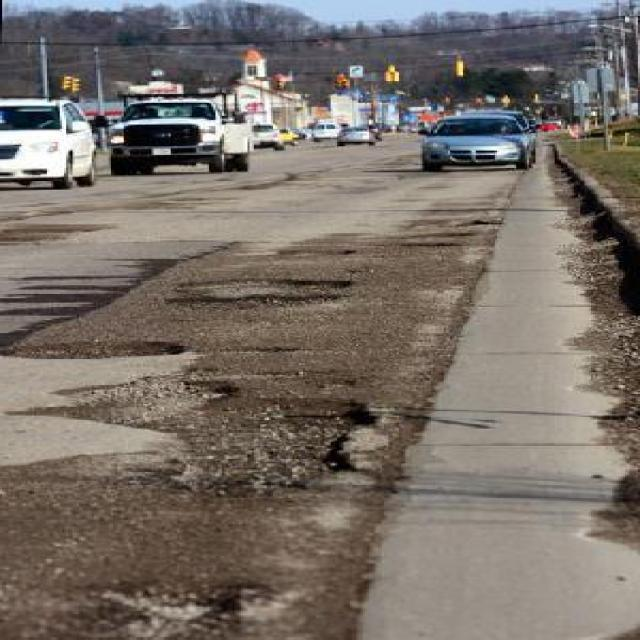pothole: (175, 394, 384, 501), (88, 578, 262, 628), (83, 376, 239, 426), (164, 291, 352, 317), (2, 337, 196, 362), (182, 275, 356, 285), (275, 246, 363, 259)
